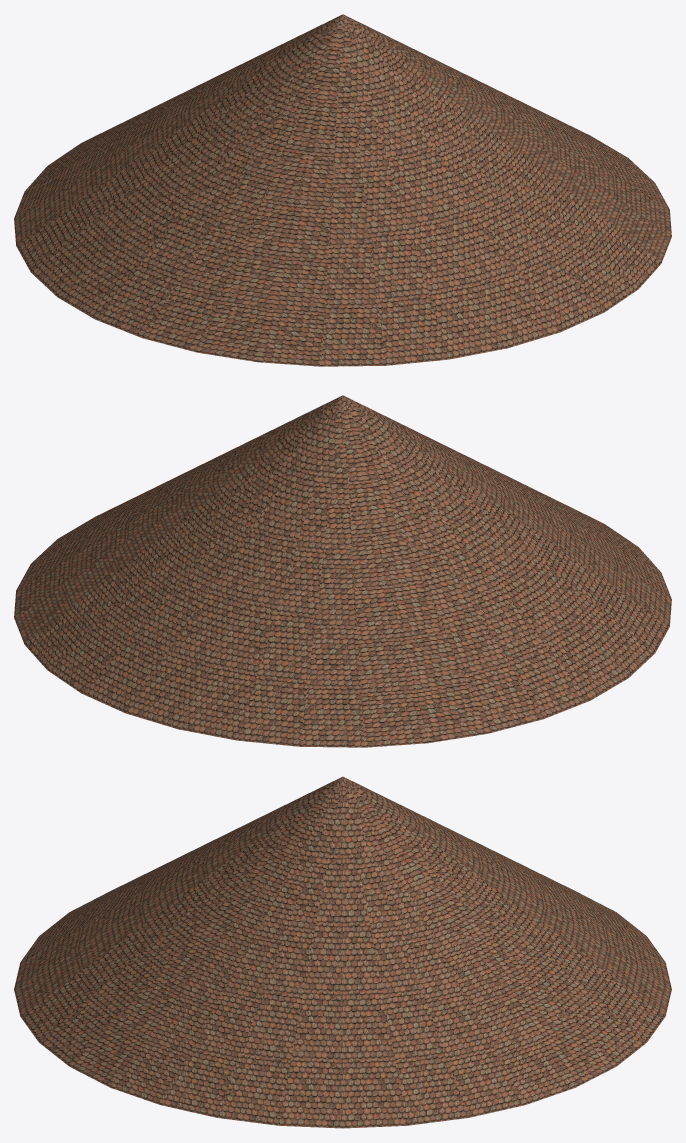
Rendered from Tower_Roof_8m.glb.
3 renders of one model, top to bottom at view 1: azimuth 30°, elevation 25°; view 2: azimuth 150°, elevation 25°; view 3: azimuth 270°, elevation 25°, orthographic.
Visible parts, largest first — view 1: conical_roof; view 2: conical_roof; view 3: conical_roof.
Part boxes in pixels (bbox=[...]): conical_roof: bbox=[14, 14, 671, 366]; conical_roof: bbox=[14, 395, 671, 747]; conical_roof: bbox=[14, 776, 671, 1128].
Size of the model in its own units: 8.4 by 3 by 8.4.
Materials: 1 (1 with a texture image).
